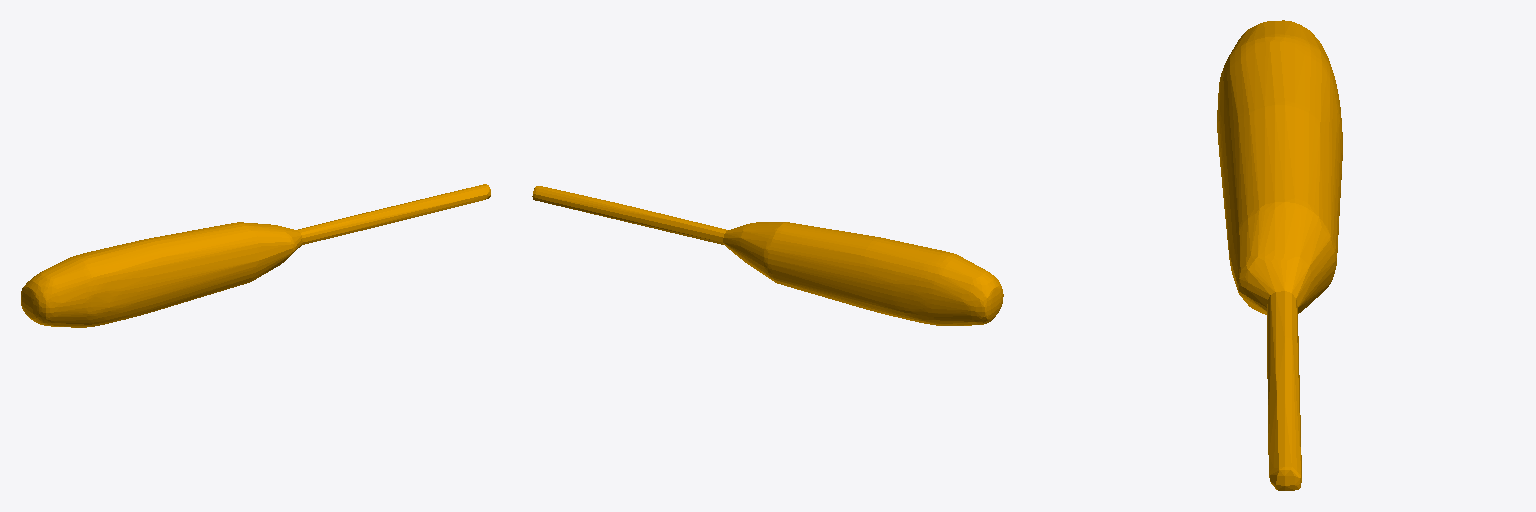
The robot description file, URDF, robot "long_screwdriver":
<?xml version="1.0"?>
<robot name="long_screwdriver">
  <link name="long_screwdriver">
    <contact>
      <lateral_friction value="0.8"/>
      <rolling_friction value="0.001"/>
      <contact_cfm value="0.0"/>
      <contact_erp value="1.0"/>
    </contact>
    <inertial>
      <origin xyz="0.04 0.0 0.0" rpy="0 0 0"/>
      <mass value="0.101"/>
      <inertia ixx="0.001" ixy="0" ixz="0" iyy="0.001" iyz="0" izz="0.001"/>
    </inertial>
    <visual>
      <geometry>
        <mesh filename="long_screwdriver.obj" scale="1 1 1"/>
      </geometry>
      <!-- The following material makes the object white in Isaac Gym, so we comment it out. -->
      <!-- <material name="white"> <color rgba="1. 1. 1. 1."/> </material> -->
    </visual>
    <collision>
      <geometry>
        <mesh filename="long_screwdriver.obj" scale="1 1 1"/>
      </geometry>
    </collision>
  </link>
</robot>

--- What the picture shows (computed from the rendered views, not written in the file) ---
3 views of the same robot in one strip: view 1: azimuth 30°, elevation 25°; view 2: azimuth 150°, elevation 25°; view 3: azimuth 270°, elevation 25° (orthographic).
Model long_screwdriver with 1 links and 0 joints (none), rooted at long_screwdriver, posed all joints at 0.
Visible links, largest first — view 1: long_screwdriver; view 2: long_screwdriver; view 3: long_screwdriver.
Link boxes in pixels (bbox=[...]): long_screwdriver: bbox=[21, 184, 490, 327]; long_screwdriver: bbox=[532, 186, 1003, 325]; long_screwdriver: bbox=[1217, 20, 1342, 490].
Bounding box of the posed robot: 0.263 × 0.0327 × 0.0365 m (x, y, z).
Meshes: 1 distinct files referenced, 1 mesh visuals loaded (1 OBJ).
